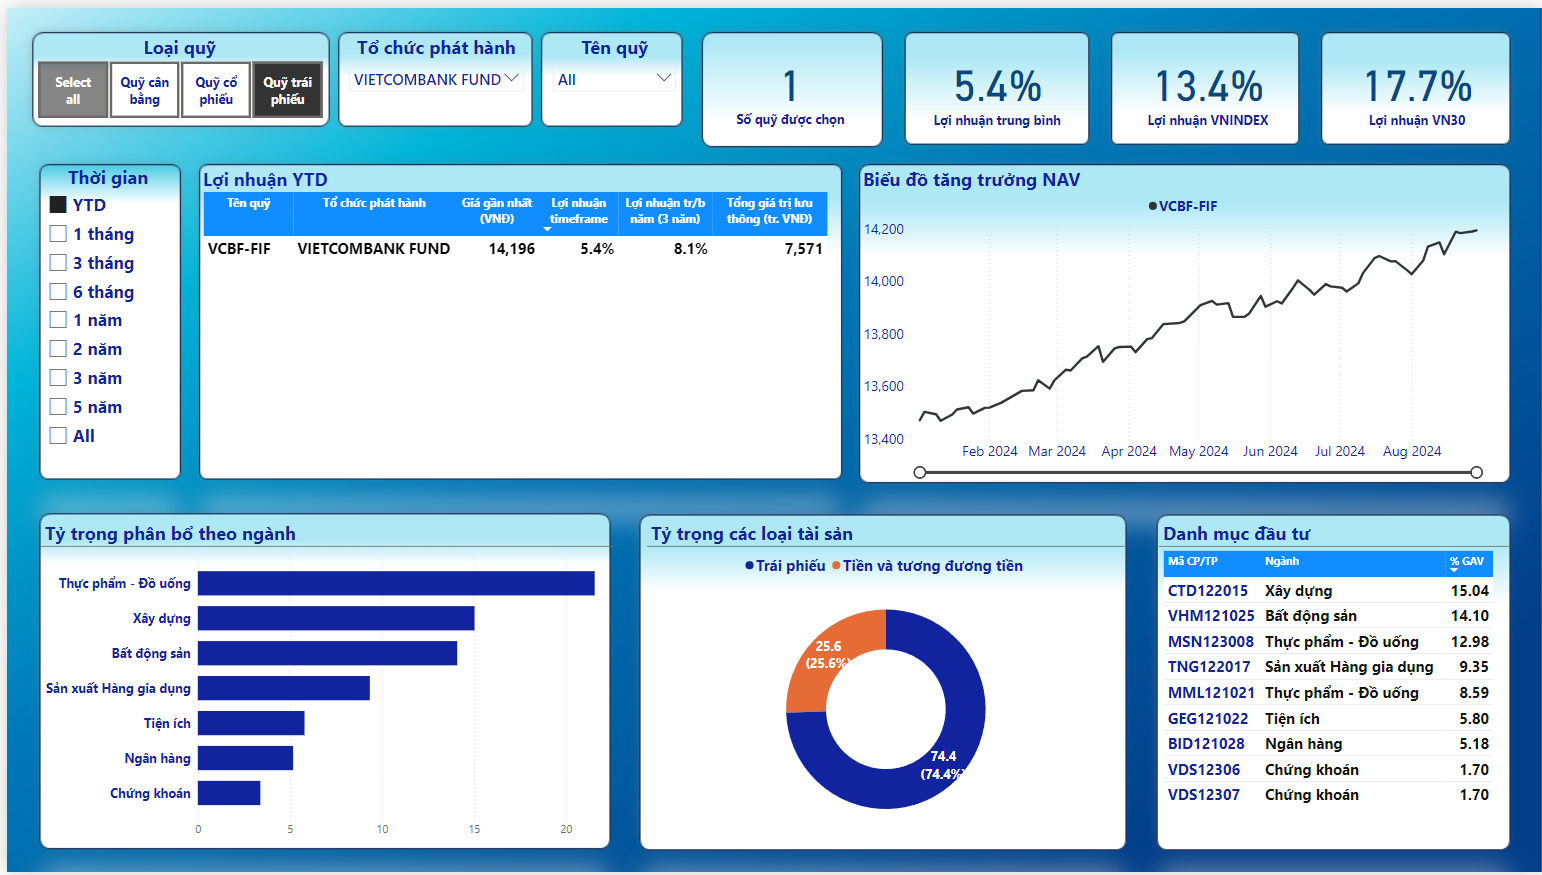

What the dashboard file says about the page in this screenshot:
{"tool":"powerbi","page":{"name":"Page 1","canvas":[1920,1080],"ordinal":0},"visuals":[{"type":"card","fields":{"Values":["CountNonNull(funds.id)"]},"box":[867.3,33,223.3,136.7],"z":0},{"type":"slicer","title":"Thời gian","fields":{"Values":["nav_by_time.Timeframe"]},"box":[41,195,172.5,392.5],"z":1000},{"type":"card","fields":{"Values":["All Measures.Avg Profit"]},"box":[1122.4,33,230,138],"z":2000},{"type":"slicer","title":"Tổ chức phát hành","fields":{"Values":["owners.short_name"]},"box":[416.6,32.7,238.6,110],"z":3000},{"type":"lineChart","title":"Biểu đồ tăng trưởng NAV","fields":{"Category":["date.Date"],"Series":["funds.short_name"],"Y":["All Measures.NAV by period"]},"box":[1064,198,814,394],"z":4000},{"type":"slicer","title":"Tên quỹ","fields":{"Values":["funds.short_name"]},"box":[672,33,174,110],"z":5000},{"type":"slicer","title":"Loại quỹ","fields":{"Values":["funds.fund_type_name"]},"box":[15.7,32.9,401.4,110],"z":6000},{"type":"tableEx","fields":{"Values":["funds.short_name","owners.short_name","Sum(funds.nav)","All Measures.Avg Profit","All Measures.Profit per years (3 years)","All Measures.Hoding value"]},"box":[240,198,802,392],"z":7000},{"type":"barChart","title":"Tỷ trọng phân bổ theo ngành","fields":{"Category":["top_stock_holdings.industry"],"Y":["Sum(top_stock_holdings.net_asset_percent)"]},"box":[43.3,640,715,405],"z":8000},{"type":"donutChart","title":"Tỷ trọng các loại tài sản ","fields":{"Y":["Avg(top_asset_holdings.asset_percent)"],"Category":["top_asset_holdings.asset_name"]},"box":[800.2,640,597.1,404.3],"z":9000},{"type":"tableEx","title":"Danh mục đầu tư","fields":{"Values":["top_stock_holdings.stock_code","top_stock_holdings.industry","Avg(top_stock_holdings.net_asset_percent)"]},"box":[1438.8,640,440,405],"z":10000},{"type":"card","fields":{"Values":["All Measures.Profit VNIndex"]},"box":[1384.2,33,232,138],"z":11000},{"type":"card","fields":{"Values":["All Measures.Profit VN30"]},"box":[1648,33,230,138],"z":12000}]}

Visuals, with their boxes in screenshot pixels (x1, y1, x2, y2), scaled from the page's 1920x1080 canvas onto the 1542x875 screenshot:
card - CountNonNull(funds.id): [697,27,876,137]
"Thời gian" slicer: [33,158,171,476]
card - All Measures.Avg Profit: [901,27,1086,139]
"Tổ chức phát hành" slicer: [335,26,526,116]
"Biểu đồ tăng trưởng NAV" lineChart: [855,160,1508,480]
"Tên quỹ" slicer: [540,27,679,116]
"Loại quỹ" slicer: [13,27,335,116]
tableEx - funds.short_name x owners.short_name: [193,160,837,478]
"Tỷ trọng phân bổ theo ngành" barChart: [35,519,609,847]
"Tỷ trọng các loại tài sản " donutChart: [643,519,1122,846]
"Danh mục đầu tư" tableEx: [1156,519,1509,847]
card - All Measures.Profit VNIndex: [1112,27,1298,139]
card - All Measures.Profit VN30: [1324,27,1508,139]
